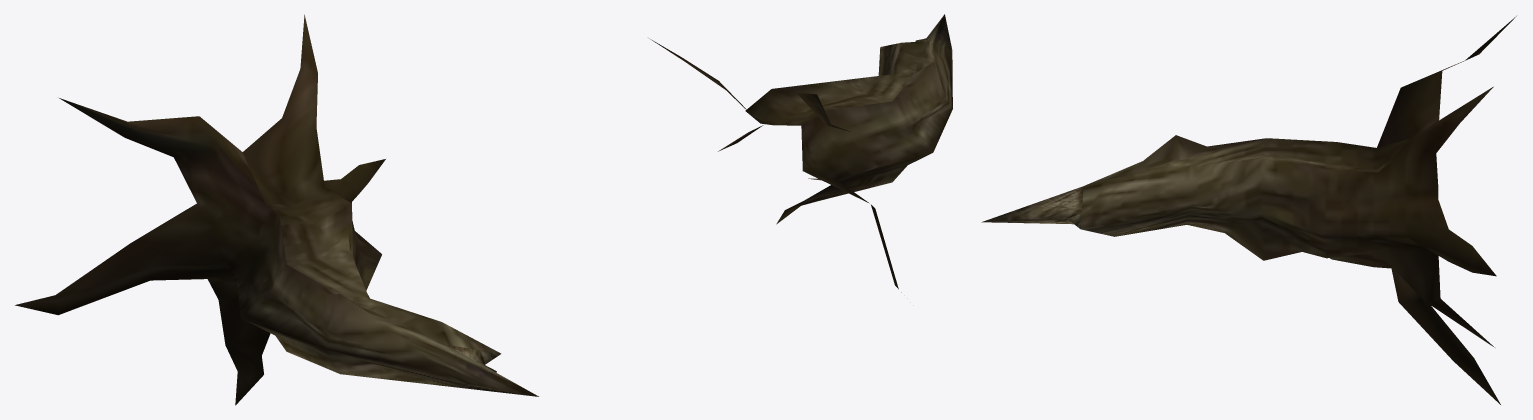
3 views of the same model, side by side, from view 1: azimuth 30°, elevation 25°; view 2: azimuth 150°, elevation 25°; view 3: azimuth 270°, elevation 25° (orthographic). The views are drawn at different scales.
Visible parts, largest first — view 1: model_Object65; view 2: model_Object65; view 3: model_Object65.
Part boxes in pixels (<box>): model_Object65: <box>15,14,538,405</box>; model_Object65: <box>649,14,952,292</box>; model_Object65: <box>981,16,1516,404</box>.
Size of the model in its own units: 3.52 by 3.42 by 4.77.
1 material, 1 textured.
